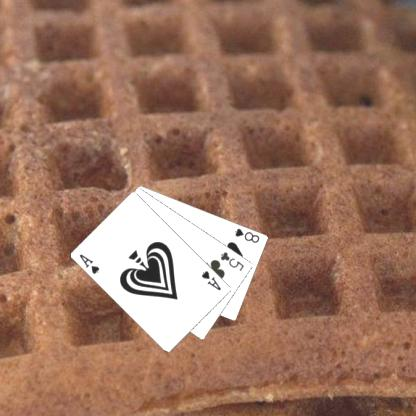5C: (218, 249, 246, 272)
8S: (232, 226, 261, 244)
AS: (199, 268, 223, 292), (77, 251, 101, 275)
